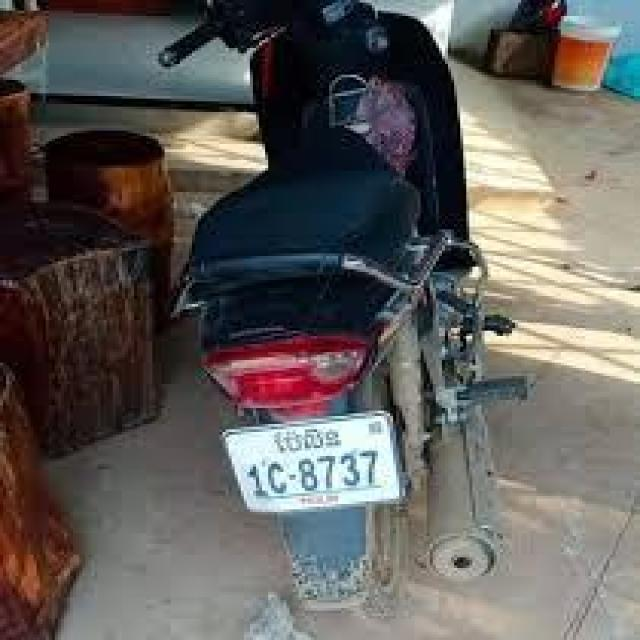Pailin: (274, 429, 341, 454)
